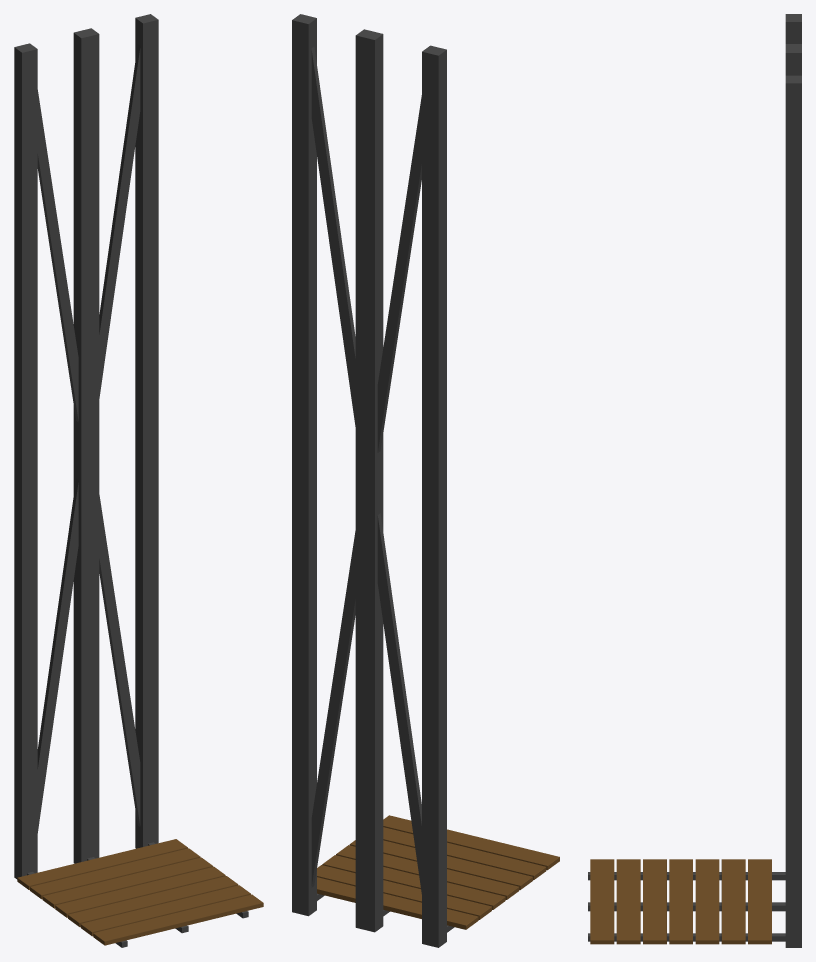
File: Elevator_v2.fbx
3 renders of one model, left to right at view 1: azimuth 30°, elevation 25°; view 2: azimuth 150°, elevation 25°; view 3: azimuth 270°, elevation 25°, orthographic. The views are drawn at different scales.
Parts seen in each view (by area): view 1: Plane.030, Plane.026; view 2: Plane.030, Plane.026; view 3: Plane.030, Plane.026.
Part boxes in pixels (x1=…): Plane.030: x1=14, y1=14, x2=158, y2=879; Plane.026: x1=17, y1=839, x2=263, y2=947; Plane.030: x1=292, y1=14, x2=446, y2=947; Plane.026: x1=317, y1=815, x2=559, y2=932; Plane.030: x1=785, y1=14, x2=801, y2=947; Plane.026: x1=588, y1=859, x2=785, y2=944.
Size of the model in its own units: 200 by 998 by 224.
